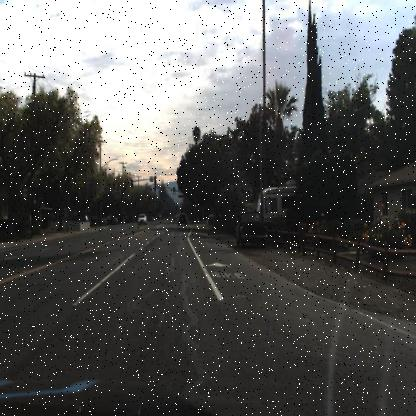car: (235, 208, 269, 249), (174, 208, 192, 230), (136, 213, 147, 227)
truck: (254, 186, 297, 218)
